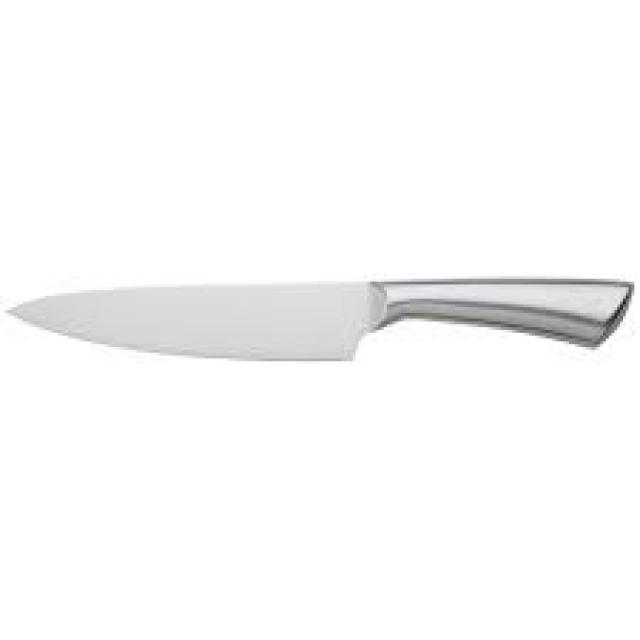Knife: (0, 275, 634, 361)
